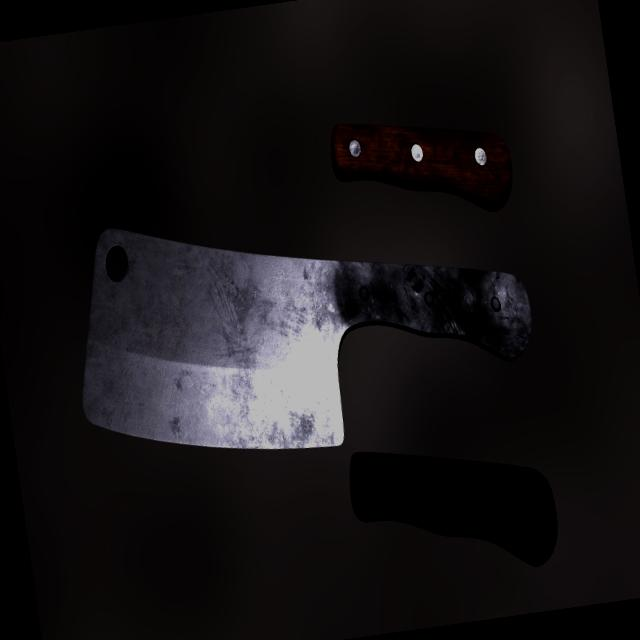cleaver: (56, 170, 544, 470)
